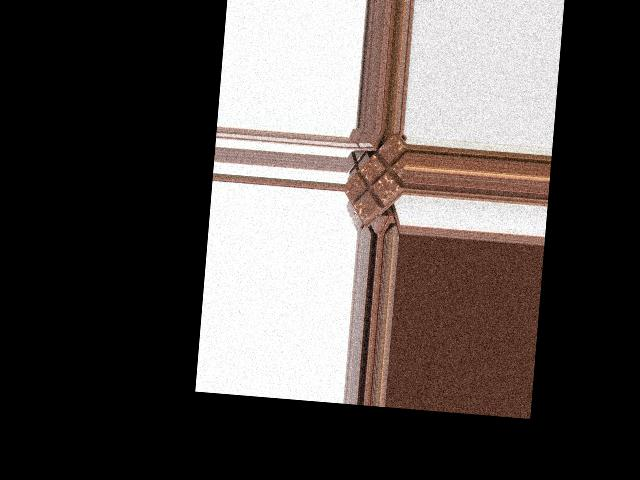chocolate: (343, 130, 408, 223)
